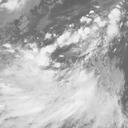cyclone: (37, 42, 97, 92)
